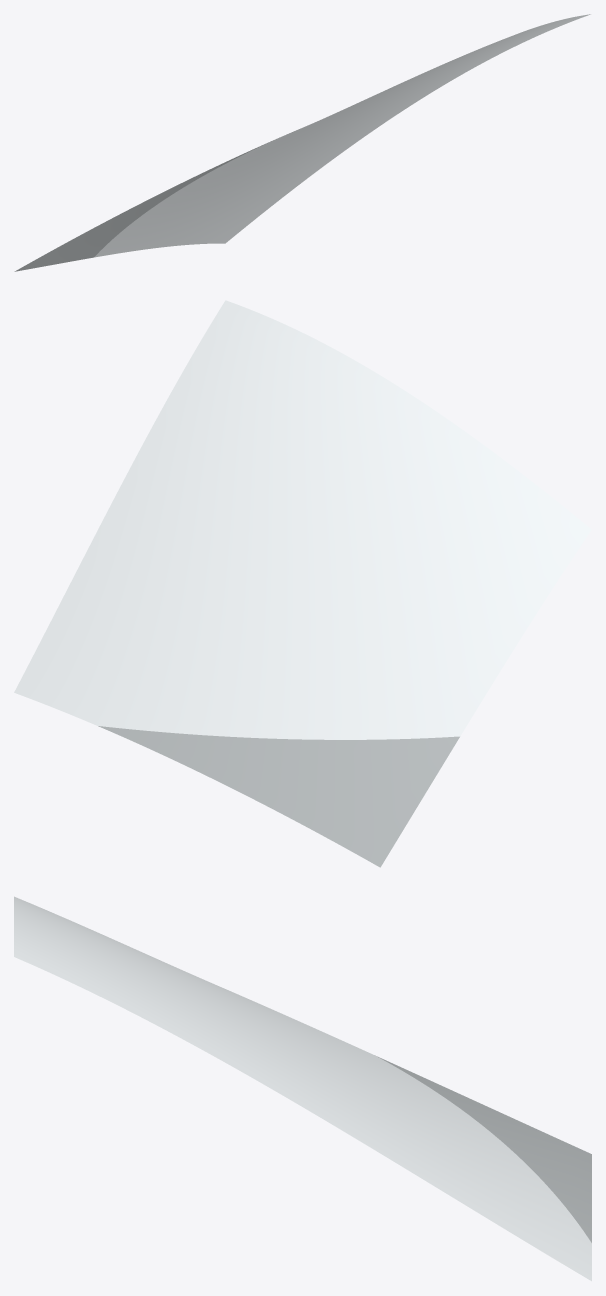
File: alpine-7-5.glb
3 renders of one model, top to bottom at view 1: azimuth 30°, elevation 25°; view 2: azimuth 150°, elevation 25°; view 3: azimuth 270°, elevation 25°, orthographic. The views are drawn at different scales.
Parts seen in each view (by area): view 1: alpine-7-5; view 2: alpine-7-5; view 3: alpine-7-5.
Part boxes in pixels (box(x1,y1,x2,y2)): alpine-7-5: box(14, 14, 590, 271); alpine-7-5: box(14, 300, 591, 867); alpine-7-5: box(14, 896, 591, 1281).
Size of the model in its own units: 256 by 216 by 256.
2 materials, 2 textured.
